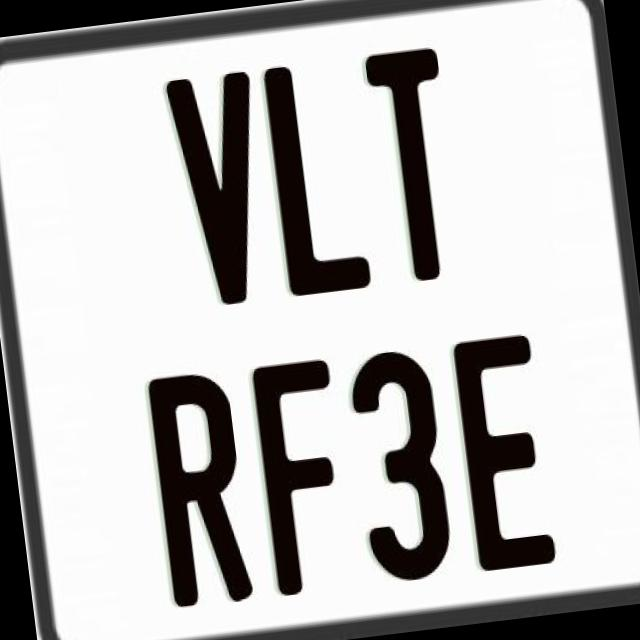3: (344, 348, 452, 590)
E: (450, 333, 558, 573)
F: (250, 356, 360, 594)
L: (258, 59, 372, 298)
R: (146, 368, 258, 616)
T: (364, 41, 472, 280)
V: (163, 65, 283, 314)
